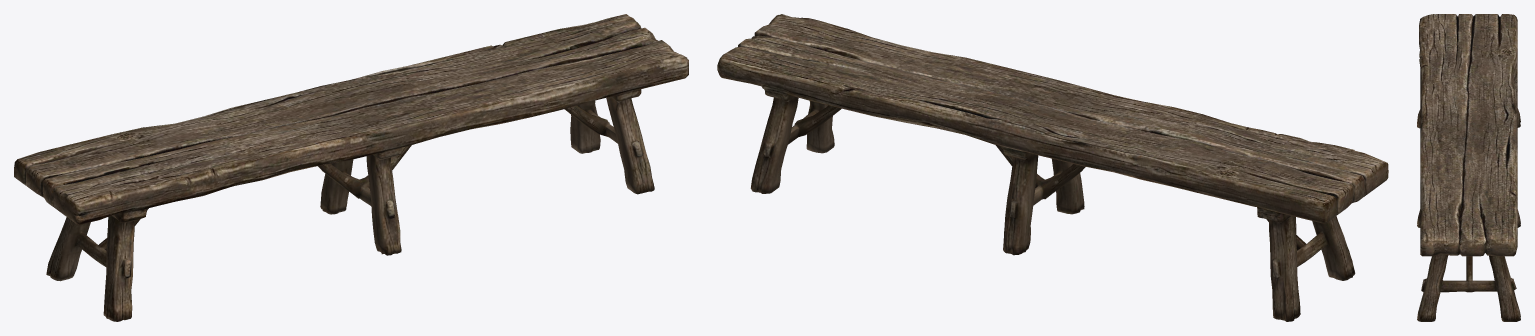
The model's file is kit_bench_hero.glb.
The picture shows the model from 3 angles, left to right: view 1: azimuth 30°, elevation 25°; view 2: azimuth 150°, elevation 25°; view 3: azimuth 270°, elevation 25°; orthographic projection. The views are drawn at different scales.
Parts seen in each view (by area): view 1: kit_bench_hero; view 2: kit_bench_hero; view 3: kit_bench_hero.
Boxes of the visible parts, x1,y1,x2,y2 form: kit_bench_hero: (14, 14, 688, 321); kit_bench_hero: (717, 14, 1388, 321); kit_bench_hero: (1417, 14, 1520, 321).
Bounding box in the file's own units: 3 × 0.593 × 0.5812.
Materials: 1 (1 with a texture image).
